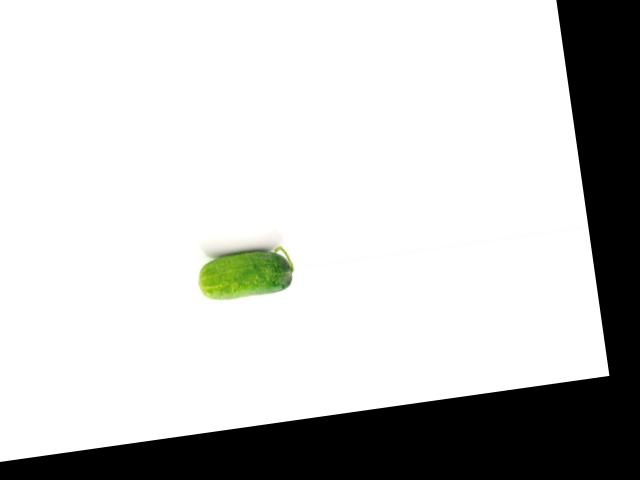cucumber: (193, 244, 295, 303)
